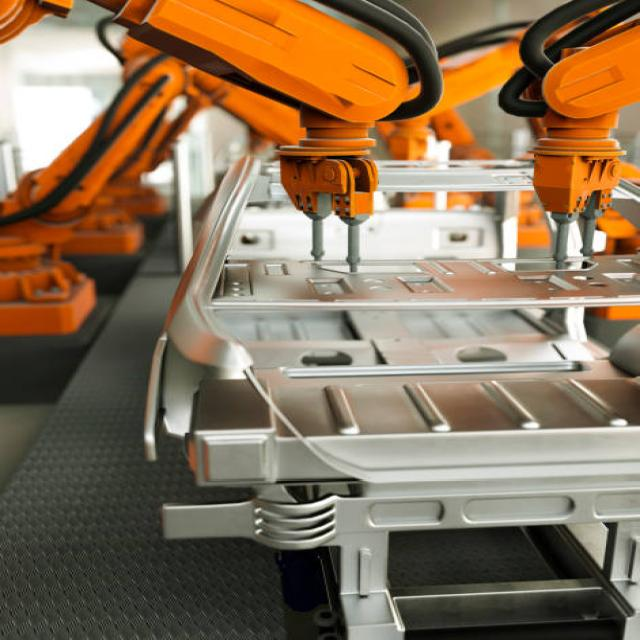Robotic-arm: (0, 0, 408, 380), (493, 0, 640, 305)
